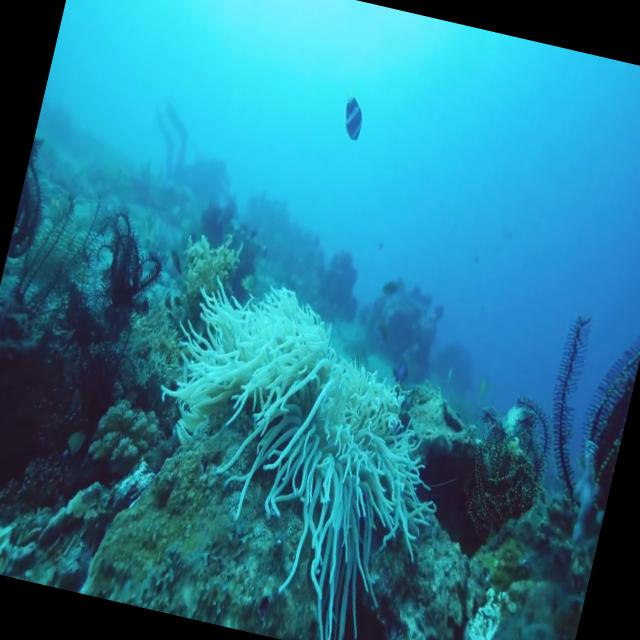fish: (333, 78, 378, 148)
